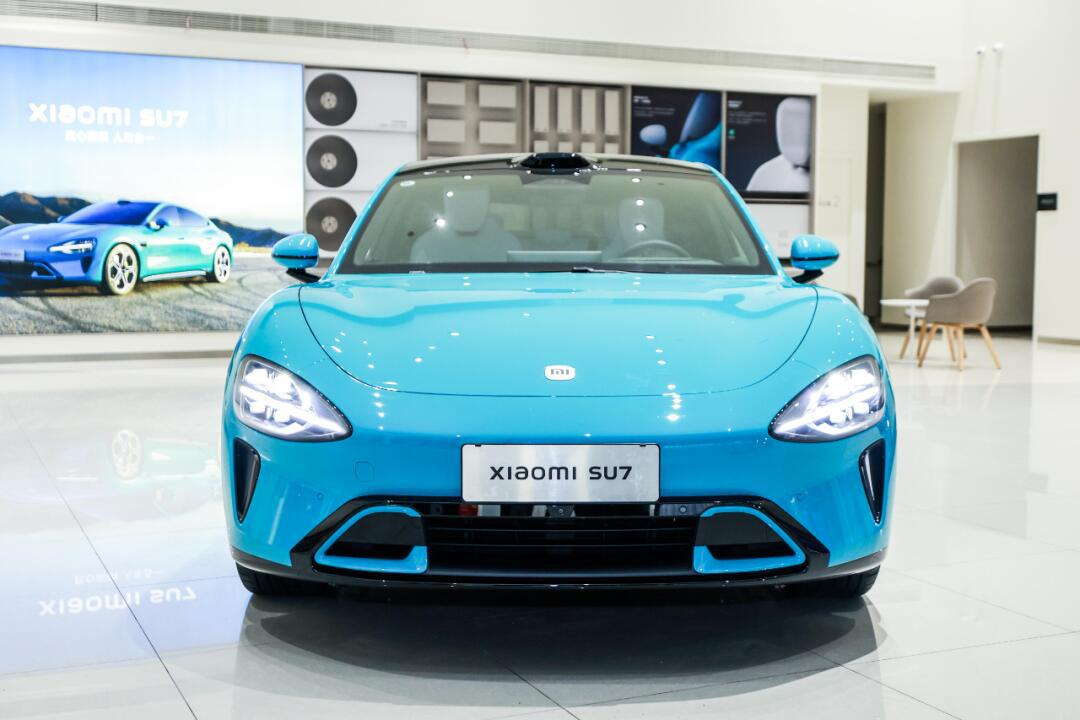su7: (229, 137, 898, 632), (0, 196, 243, 286)
